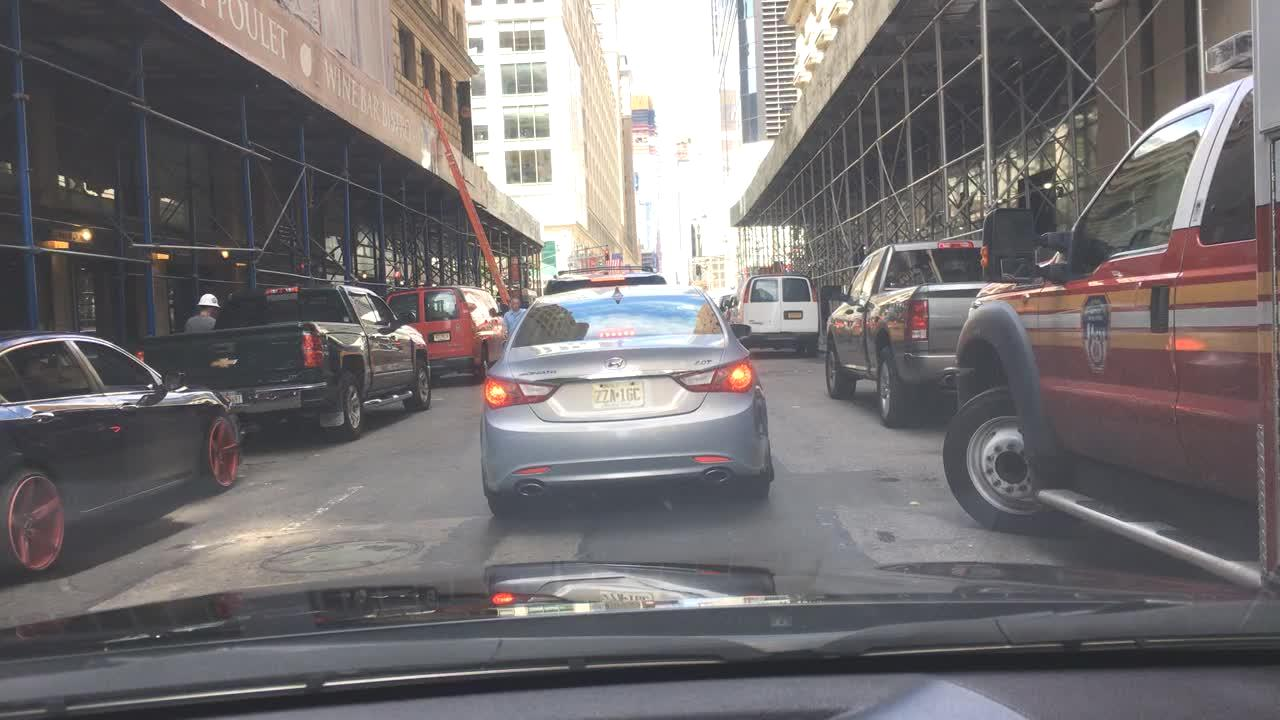Hyundai: (596, 350, 634, 374)
chevrolet: (199, 352, 251, 373)
